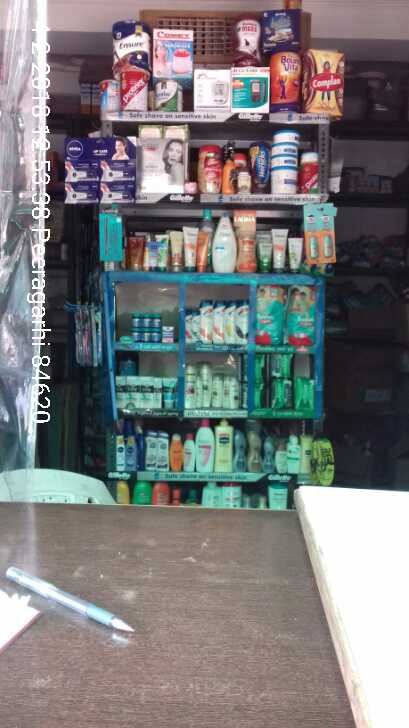vicks: (70, 301, 105, 373), (128, 312, 176, 347)
